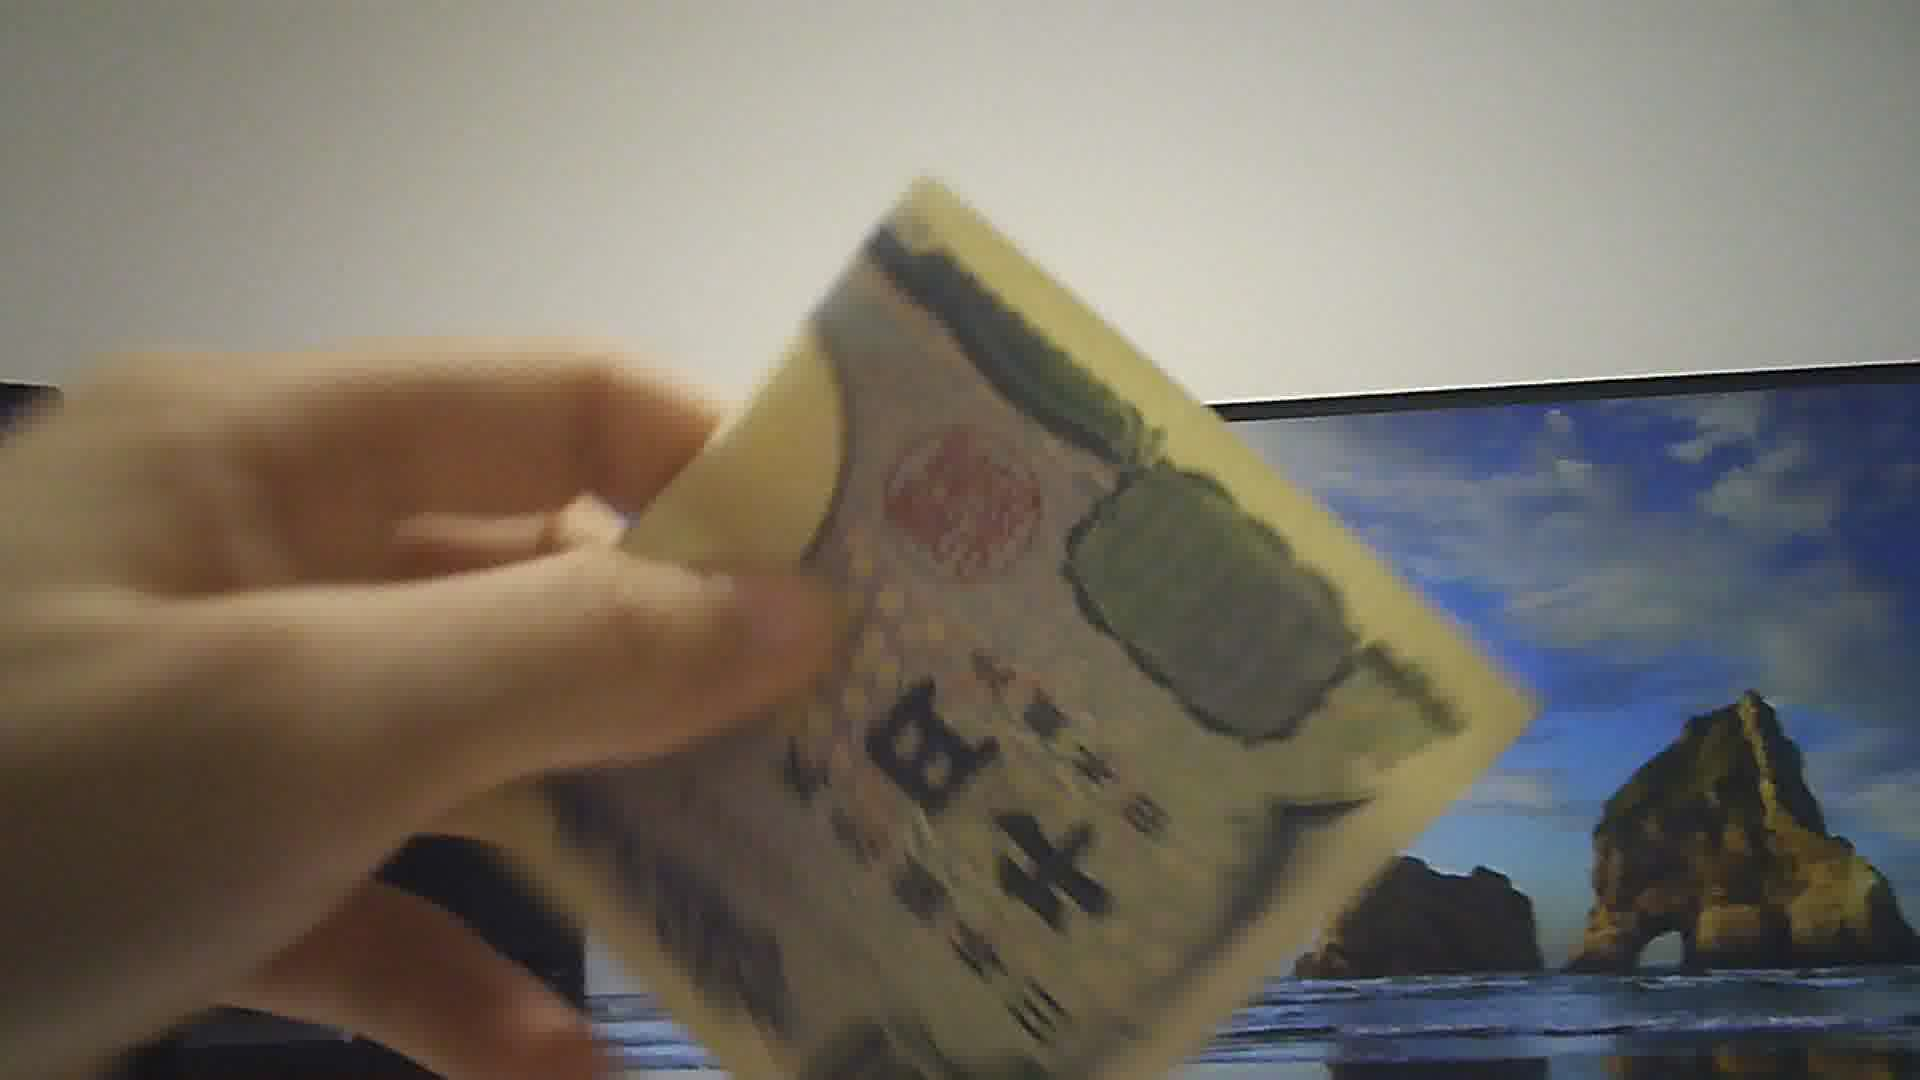1,000 Yen: (518, 175, 1478, 1079)
